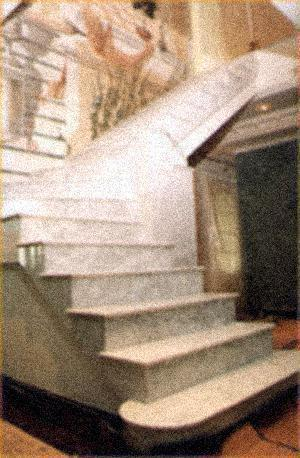Escaleras: (2, 195, 292, 444), (9, 52, 255, 189)
